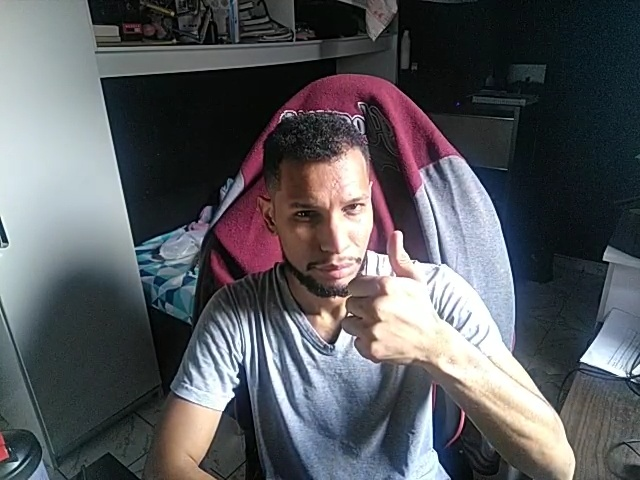sim: (339, 229, 434, 370)
